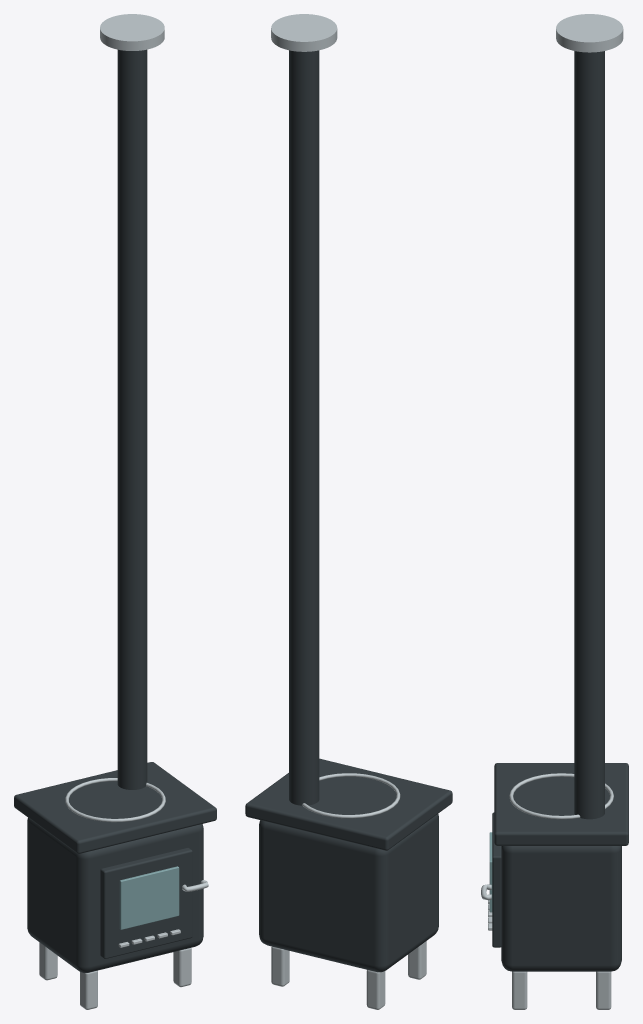
Rendered from abandoned-weather-station-and-storm-shelter-stove-898c16fa__31048.glb.
3 views of the same model, side by side, from view 1: azimuth 30°, elevation 25°; view 2: azimuth 150°, elevation 25°; view 3: azimuth 270°, elevation 25° (orthographic). The views are drawn at different scales.
Visible parts, largest first — view 1: stove; view 2: stove; view 3: stove.
Part boxes in pixels (box(x1,y1,x2,y2)): stove: box(14, 14, 216, 1009); stove: box(245, 14, 452, 1009); stove: box(481, 14, 628, 1009).
Bounding box in the file's own units: 0.6001 × 3.83 × 0.5277.
